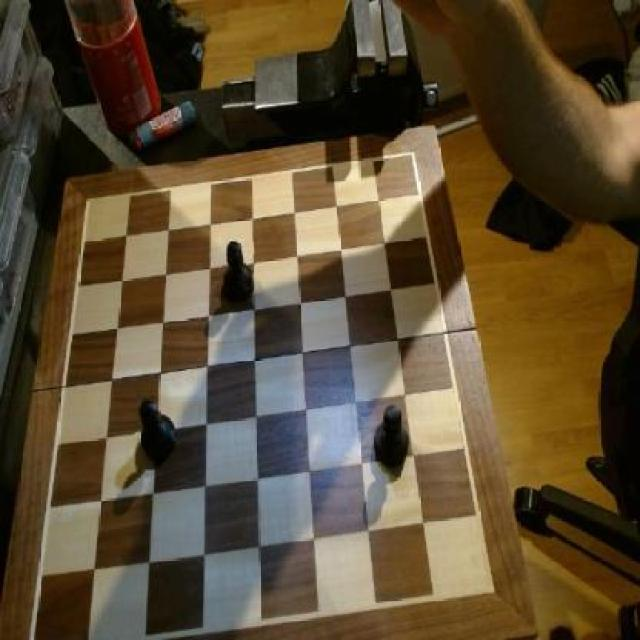black-knight: (372, 397, 415, 475), (137, 397, 180, 467), (221, 238, 257, 304)
